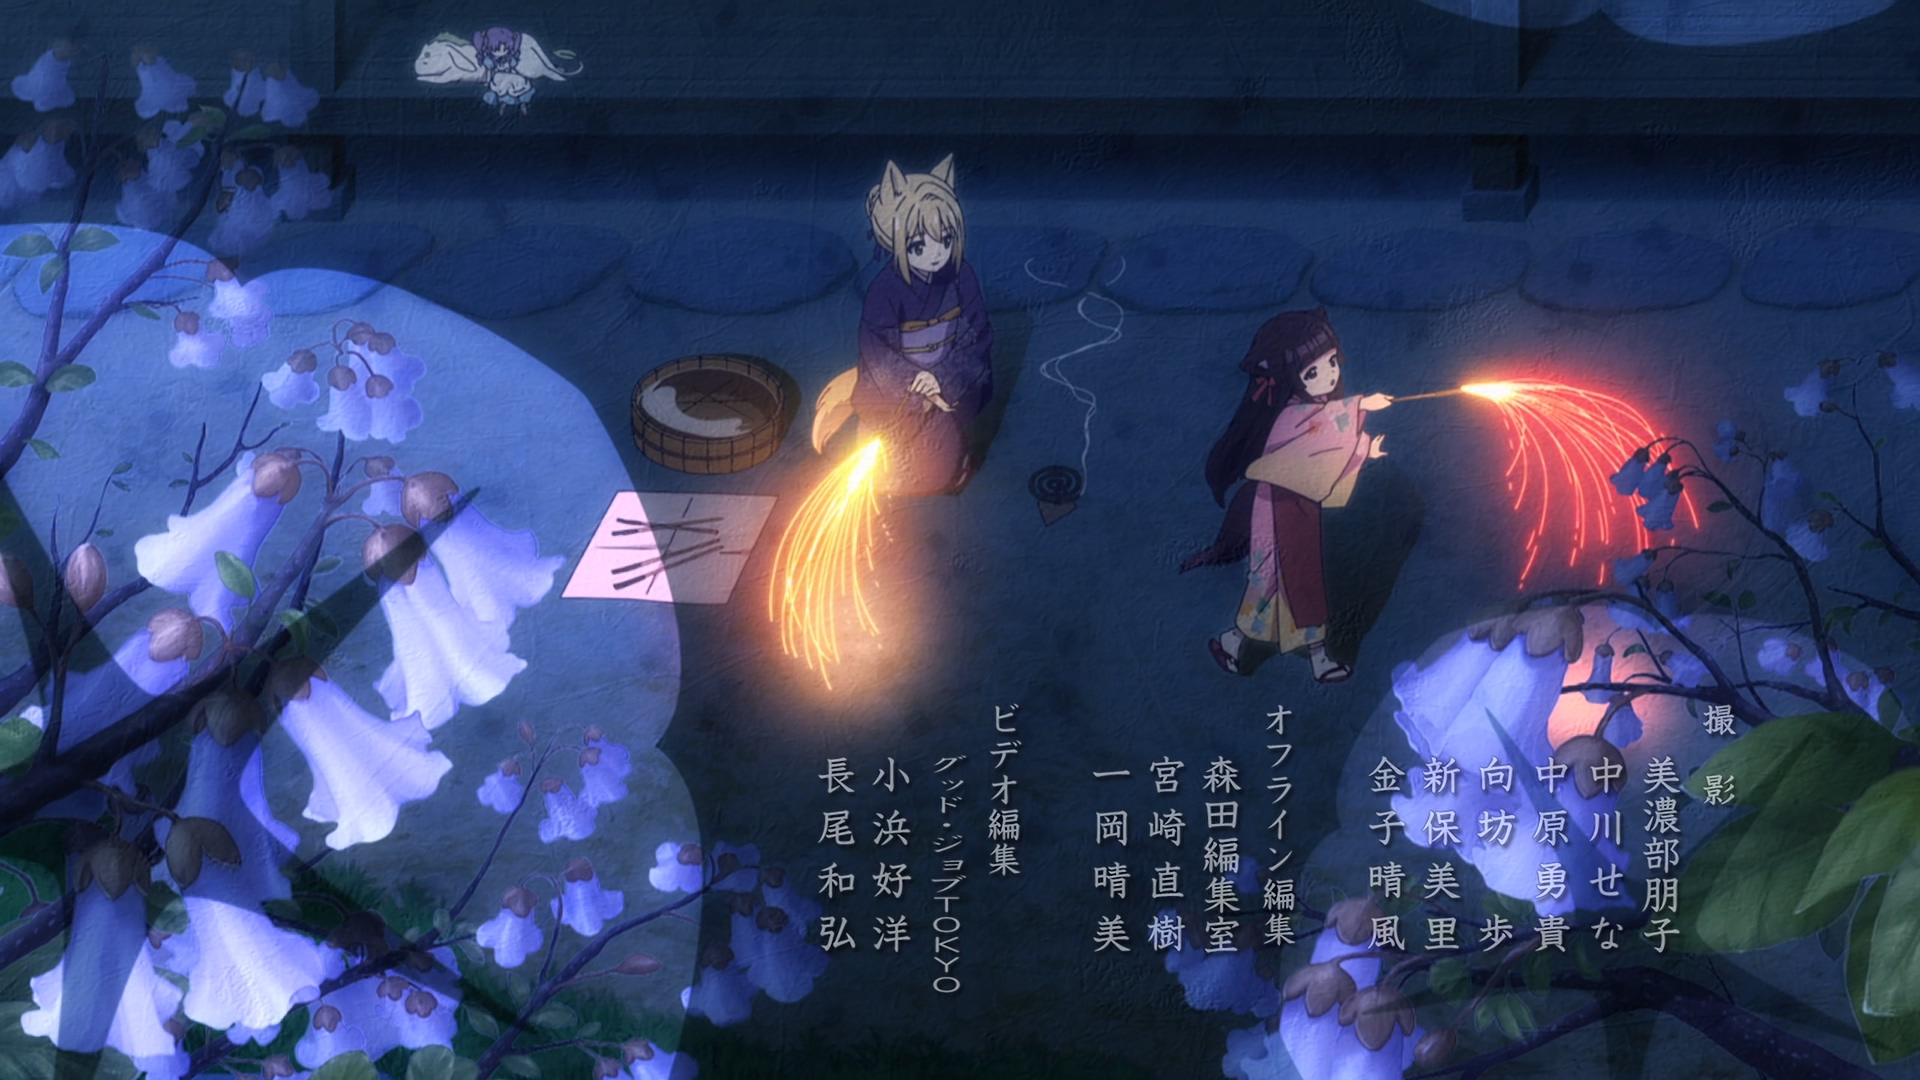桐: (810, 152, 994, 498)
樱: (1182, 309, 1393, 684)
